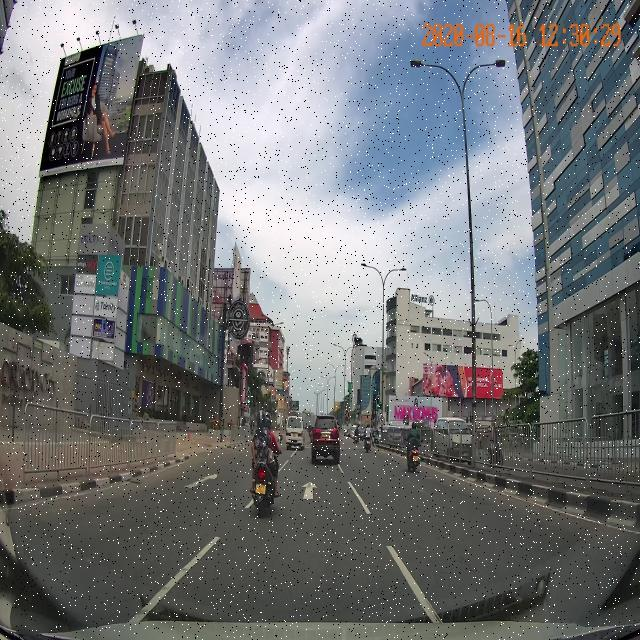forward: (274, 477, 382, 524)
